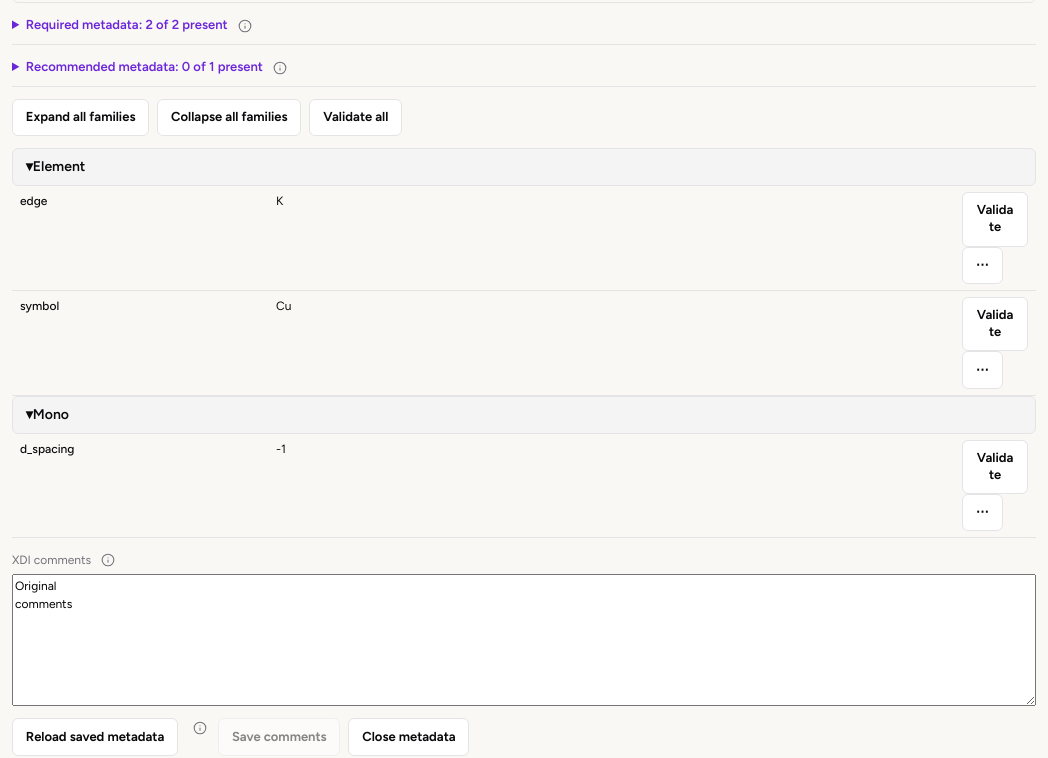
Scenario: refreshes acquisition history when reloading a newer saved revision and distinguishes empty history
The width and height of the screenshot is (1048, 758).
(page scrolled)
What coordinates should you click on to do the following:
click the button "Reload saved metadata"
I would click on:
 (95, 737)
Its box is x1=12 y1=718 x2=178 y2=756.
(page scrolled)
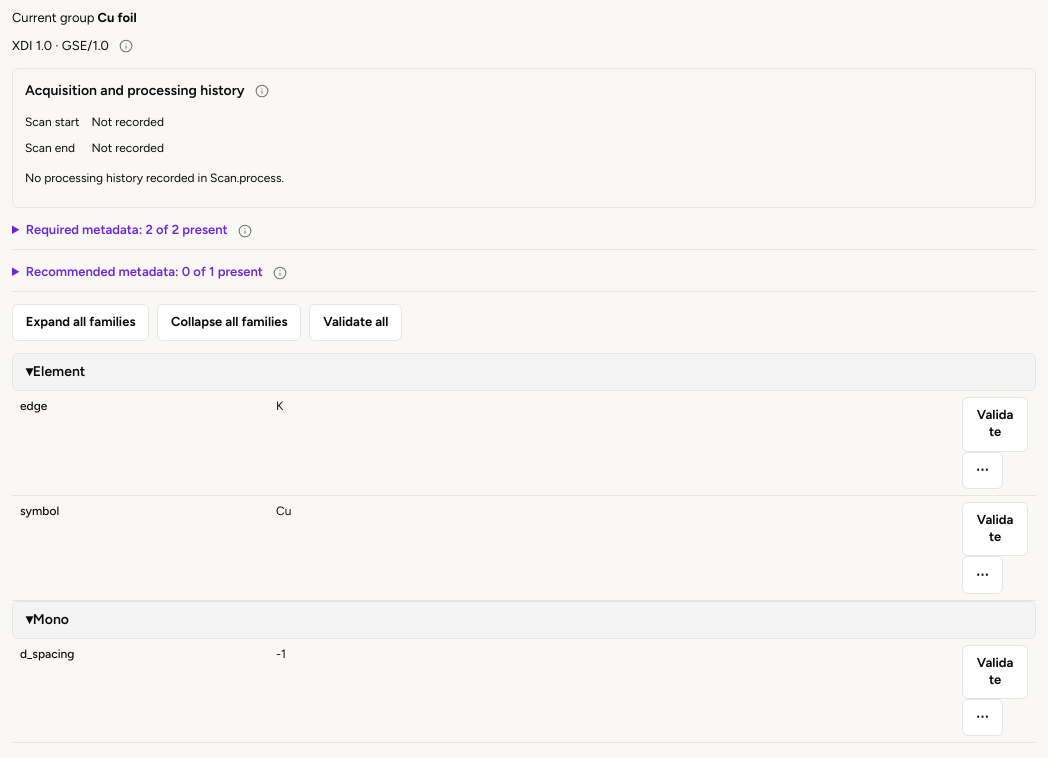
Result: the text "No processing history recorded in Scan.process." is shown at x1=25 y1=171 x2=284 y2=185
